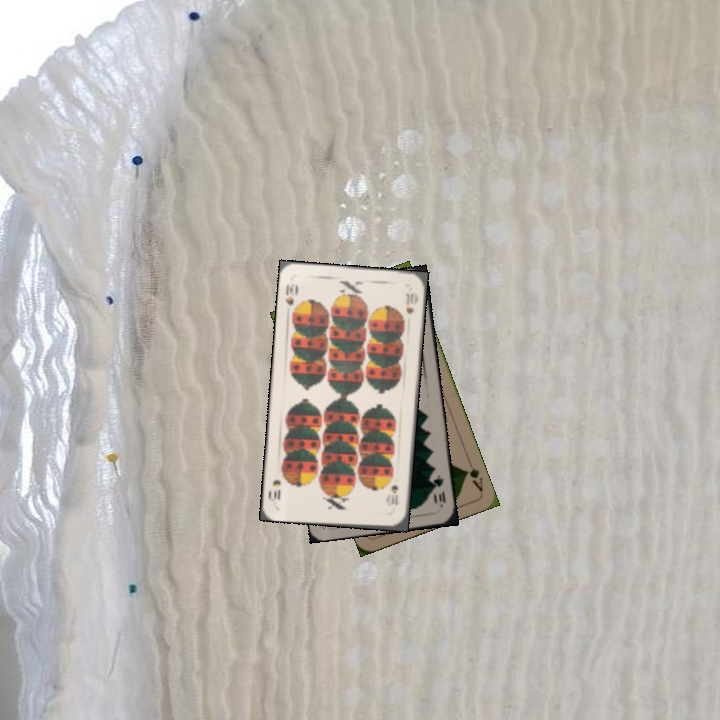G10: (428, 471, 448, 510)
GA: (461, 455, 486, 494)
S10: (281, 279, 301, 308), (387, 481, 401, 508)
